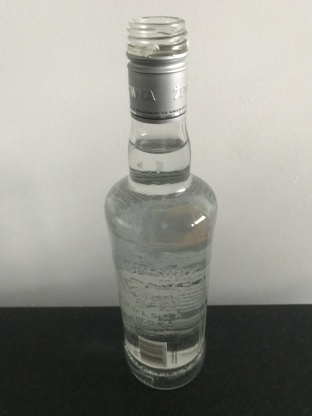nakretka: (124, 14, 189, 124)
